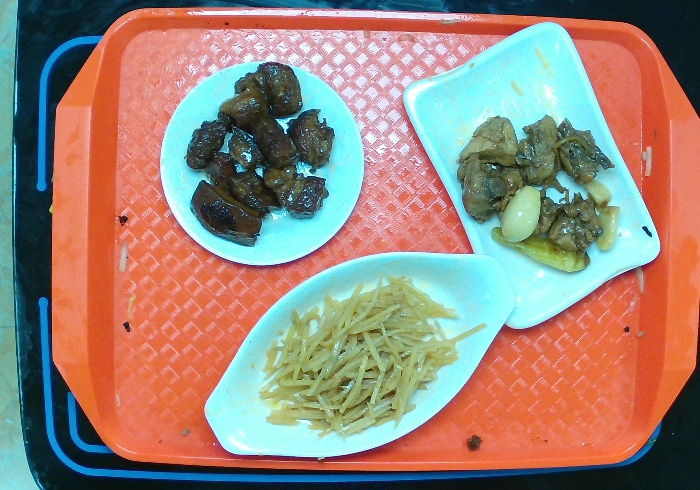RJxy-Si_Fang_Ao_Bian_Wan: (397, 12, 661, 339)
RJxy-Xiao_Yuan_Die: (156, 61, 375, 267)
RJxy-Yu_Pan: (201, 247, 519, 464)
